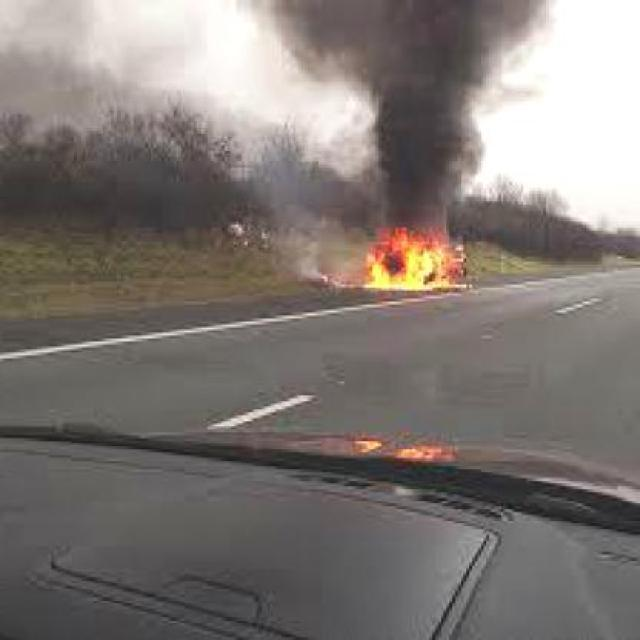Fire: (351, 218, 486, 302)
Smoke: (242, 0, 586, 220)
